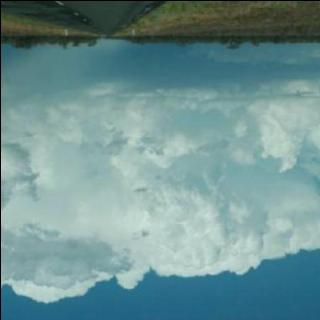Cumulonimbus: (0, 48, 320, 310)
